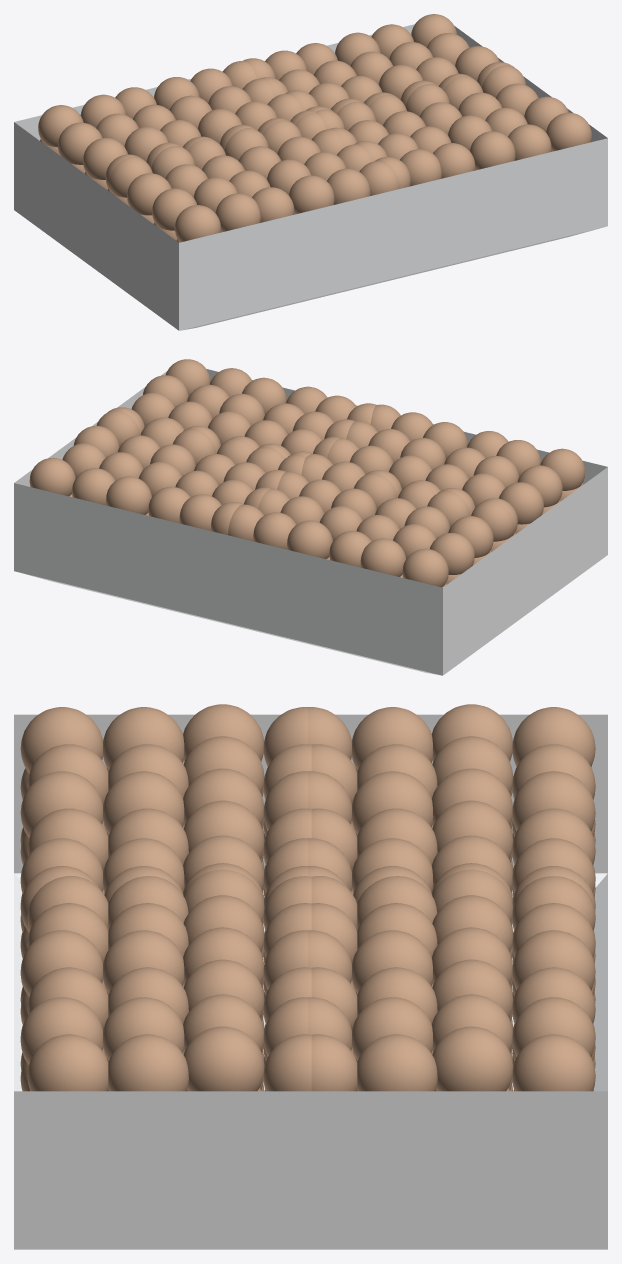
File: bakso-kecil.glb
3 views of the same model, one above another, from view 1: azimuth 30°, elevation 25°; view 2: azimuth 150°, elevation 25°; view 3: azimuth 270°, elevation 25° (orthographic). The views are drawn at different scales.
Parts seen in each view (by area): view 1: Sphere.008; view 2: Sphere.008; view 3: Sphere.008.
Part boxes in pixels (x1=…): Sphere.008: x1=14, y1=14, x2=607, y2=330; Sphere.008: x1=14, y1=359, x2=607, y2=675; Sphere.008: x1=14, y1=704, x2=607, y2=1249.
Bounding box in the file's own units: 0.18 × 0.0472 × 0.12.
